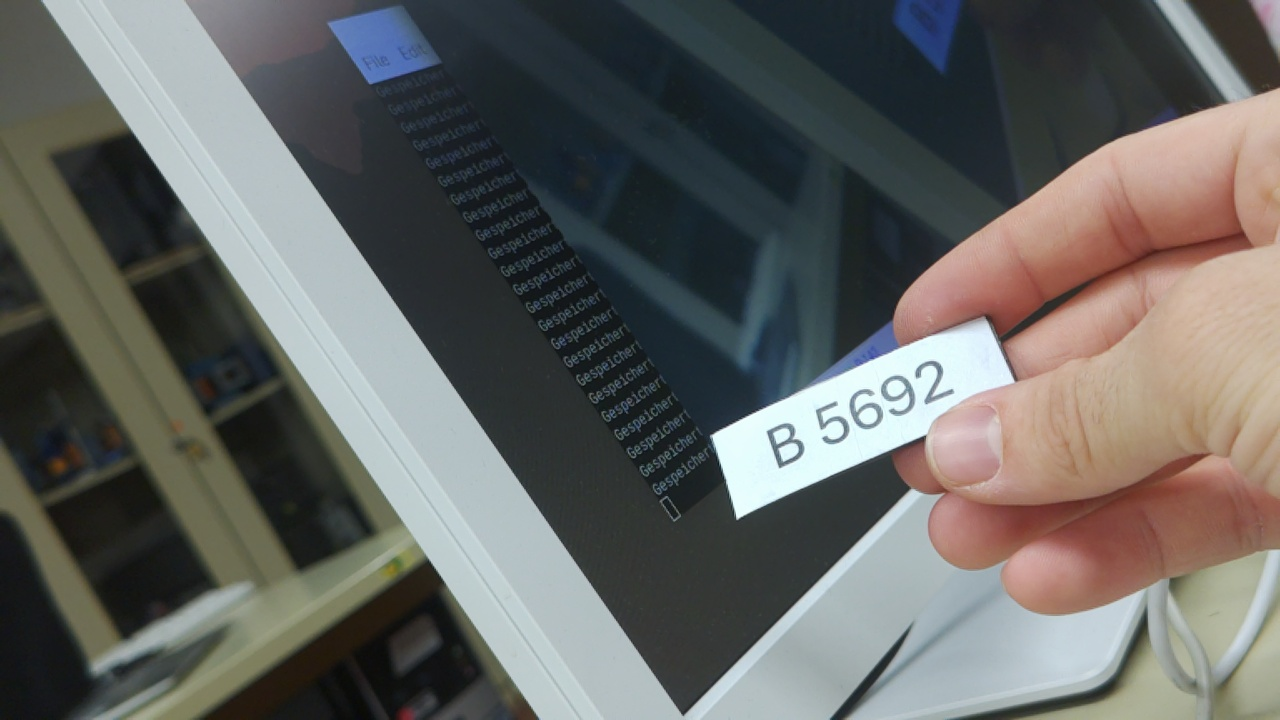license_plate: (703, 310, 1022, 525)
